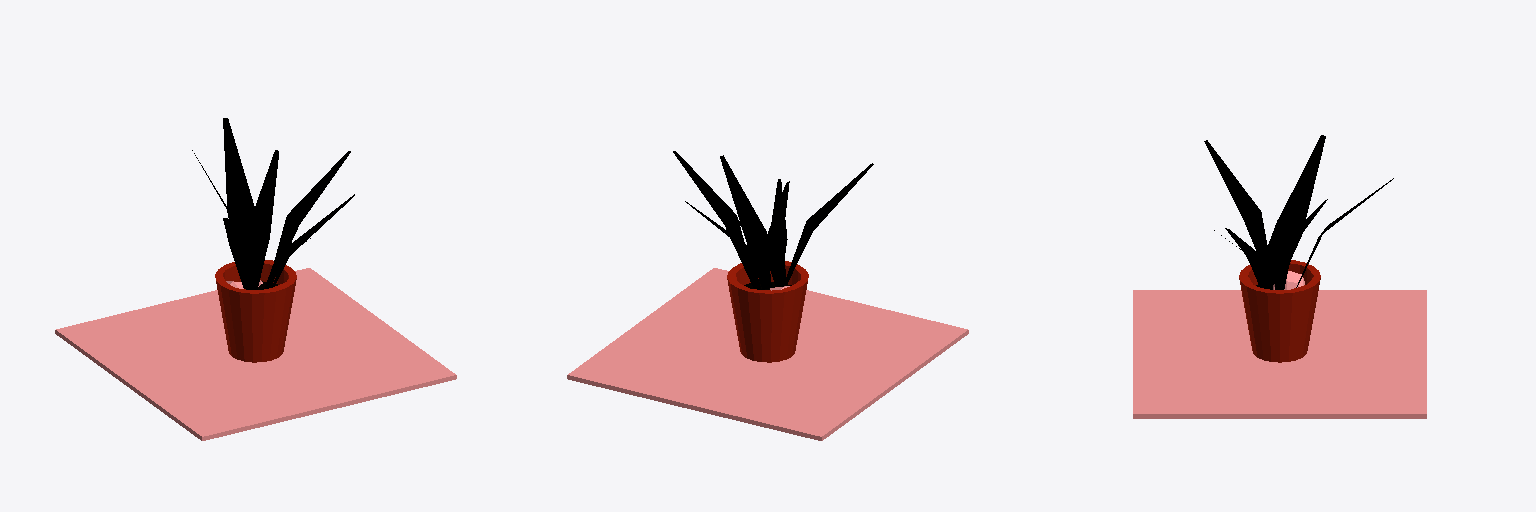
The model's file is WideLeaf_Plant_RA.obj.
3 views of the same model, side by side, from view 1: azimuth 30°, elevation 25°; view 2: azimuth 150°, elevation 25°; view 3: azimuth 270°, elevation 25° (orthographic).
Parts seen in each view (by area): view 1: Floor_RA:pCube1, pCylinder1, pasted__pasted__pPlane1 pasted__group1 group5, pasted__pPlane1 group, pPlane1, pasted__pPlane1 group1, pasted__pPlane1 group3; view 2: Floor_RA:pCube1, pCylinder1, pasted__pPlane1 group3, pasted__pasted__pPlane1 pasted__group group4, pasted__pPlane1 group1, pPlane1, pasted__pPlane1 group; view 3: Floor_RA:pCube1, pCylinder1, pasted__pasted__pPlane1 pasted__group group4, pasted__pPlane1 group1, pPlane1, pasted__pPlane1 group3.
Part boxes in pixels (bbox=[...]): Floor_RA:pCube1: bbox=[55, 268, 456, 440]; pCylinder1: bbox=[215, 260, 296, 362]; pasted__pasted__pPlane1 pasted__group1 group5: bbox=[246, 150, 278, 289]; pasted__pPlane1 group: bbox=[223, 118, 254, 237]; pPlane1: bbox=[268, 151, 350, 288]; pasted__pPlane1 group1: bbox=[223, 218, 253, 289]; pasted__pPlane1 group3: bbox=[271, 194, 354, 287]; Floor_RA:pCube1: bbox=[567, 268, 968, 440]; pCylinder1: bbox=[727, 261, 808, 362]; pasted__pPlane1 group3: bbox=[720, 155, 771, 289]; pasted__pasted__pPlane1 pasted__group group4: bbox=[763, 181, 789, 286]; pasted__pPlane1 group1: bbox=[785, 163, 873, 285]; pPlane1: bbox=[673, 151, 754, 288]; pasted__pPlane1 group: bbox=[685, 201, 761, 289]; Floor_RA:pCube1: bbox=[1133, 290, 1426, 418]; pCylinder1: bbox=[1239, 260, 1320, 362]; pasted__pasted__pPlane1 pasted__group group4: bbox=[1270, 135, 1325, 284]; pasted__pPlane1 group1: bbox=[1204, 140, 1272, 289]; pPlane1: bbox=[1267, 220, 1292, 289]; pasted__pPlane1 group3: bbox=[1225, 228, 1271, 289].
Bounding box in the file's own units: 7.14 × 5.4 × 7.14.